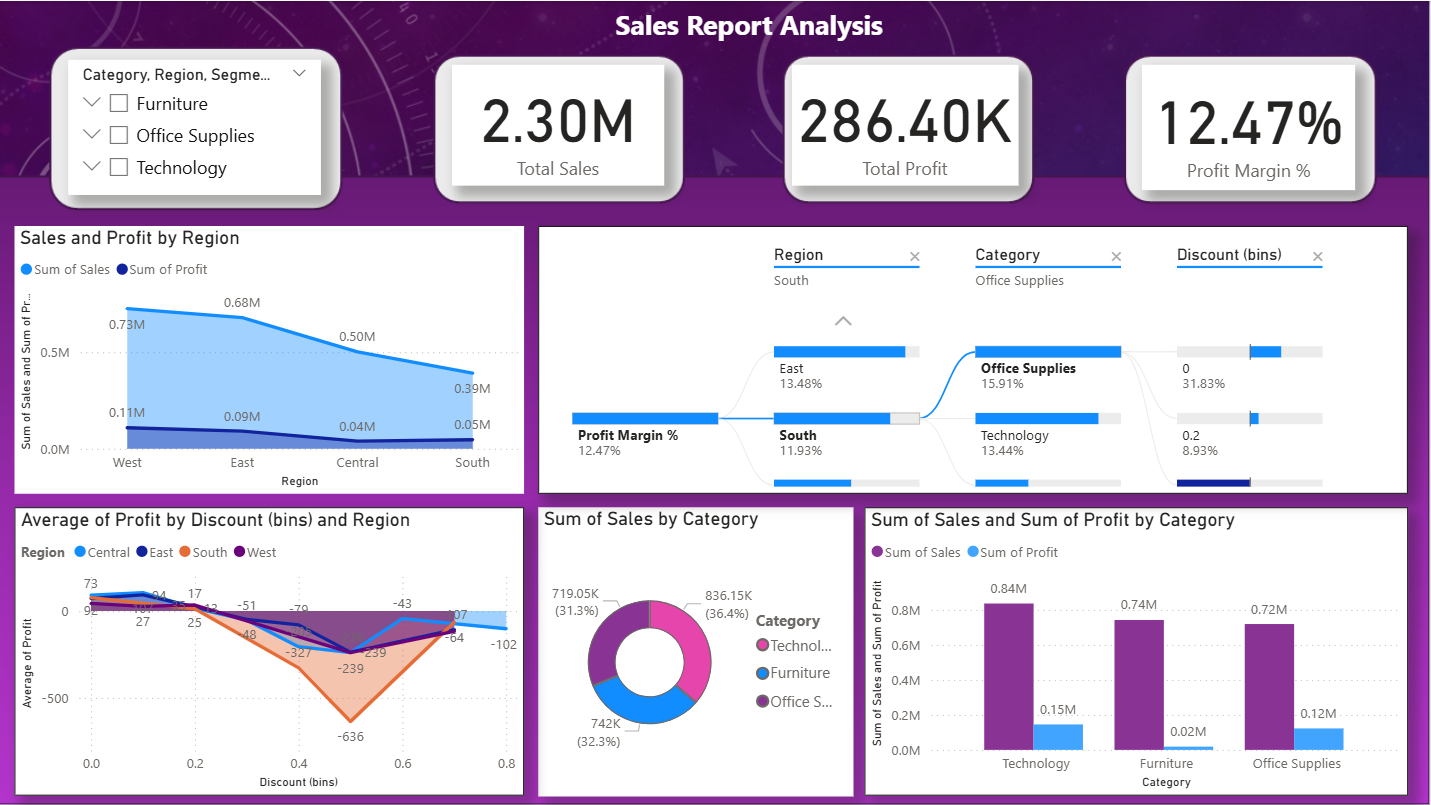

Layout of this report page (visuals, bound fields, positions):
{"tool":"powerbi","page":{"name":"Page 4","canvas":[1280,720],"ordinal":0},"visuals":[{"type":"card","fields":{"Values":["Sample - Superstore.Total Sales"]},"box":[407,57,189.5,108.1],"z":0},{"type":"card","fields":{"Values":["Sample - Superstore.Total Profit"]},"box":[710.5,57,202.3,108.1],"z":1},{"type":"card","fields":{"Values":["Sample - Superstore.Profit Margin %"]},"box":[1023.3,57,190.7,111.6],"z":2},{"type":"slicer","fields":{"Values":["Sample - Superstore.Category","Sample - Superstore.Region","Sample - Superstore.Segment"]},"box":[64,52.3,225.6,120.9],"z":3},{"type":"textbox","box":[397.7,0,530.2,44.2],"z":4},{"type":"donutChart","fields":{"Category":["Sample - Superstore.Category"],"Y":["Sum(Sample - Superstore.Sales)"]},"box":[483.7,452.3,281.4,258.1],"z":5},{"type":"areaChart","fields":{"Category":["Sample - Superstore.Discount (bins)"],"Y":["Avg(Sample - Superstore.Profit)"],"Series":["Sample - Superstore.Region"]},"box":[15.6,452.2,455.6,257.9],"z":6},{"type":"clusteredColumnChart","fields":{"Category":["Sample - Superstore.Category"],"Y":["Sum(Sample - Superstore.Sales)","Sum(Sample - Superstore.Profit)"]},"box":[774.9,452.2,485.7,257.9],"z":7},{"type":"decompositionTreeVisual","fields":{"Analyze":["Sample - Superstore.Profit Margin %"],"ExplainBy":["Sample - Superstore.Region","Sample - Superstore.Category","Sample - Superstore.Discount (bins)"]},"box":[483.5,201,777.2,239],"z":8},{"type":"areaChart","title":"Sales and Profit by Region","fields":{"Category":["Sample - Superstore.Region"],"Y":["Sum(Sample - Superstore.Sales)","Sum(Sample - Superstore.Profit)"]},"box":[15.6,201,455.6,239],"z":9}]}

Visuals, with their boxes in screenshot pixels (x1, y1, x2, y2), scaled from the page's 1280x720 canvas onto the 1431x805 screenshot:
card - Sample - Superstore.Total Sales: (x1=455, y1=64, x2=667, y2=185)
card - Sample - Superstore.Total Profit: (x1=794, y1=64, x2=1020, y2=185)
card - Sample - Superstore.Profit Margin %: (x1=1144, y1=64, x2=1357, y2=189)
slicer - Sample - Superstore.Category x Sample - Superstore.Region: (x1=72, y1=58, x2=324, y2=194)
textbox: (x1=445, y1=0, x2=1037, y2=49)
donutChart - Sample - Superstore.Category x Sum(Sample - Superstore.Sales): (x1=541, y1=506, x2=855, y2=794)
areaChart - Sample - Superstore.Discount (bins) x Avg(Sample - Superstore.Profit): (x1=17, y1=506, x2=527, y2=794)
clusteredColumnChart - Sample - Superstore.Category x Sum(Sample - Superstore.Sales): (x1=866, y1=506, x2=1409, y2=794)
decompositionTreeVisual - Sample - Superstore.Profit Margin % x Sample - Superstore.Region: (x1=541, y1=225, x2=1409, y2=492)
"Sales and Profit by Region" areaChart: (x1=17, y1=225, x2=527, y2=492)
